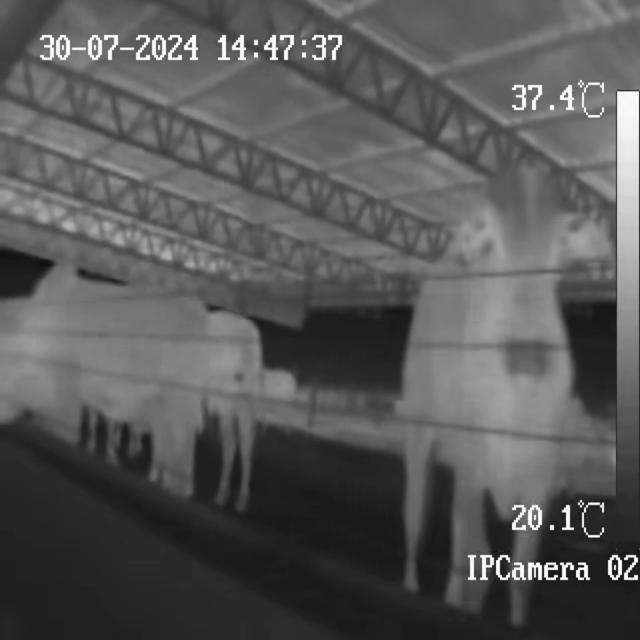eye: (491, 225, 508, 264), (548, 227, 564, 263)
head: (481, 164, 570, 380)
